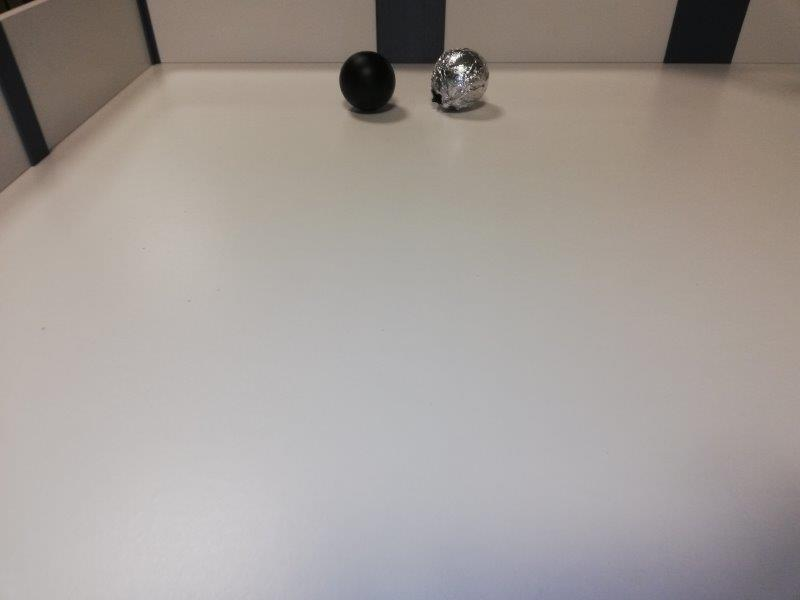bianca: (433, 48, 491, 108)
nera: (340, 50, 395, 110)
